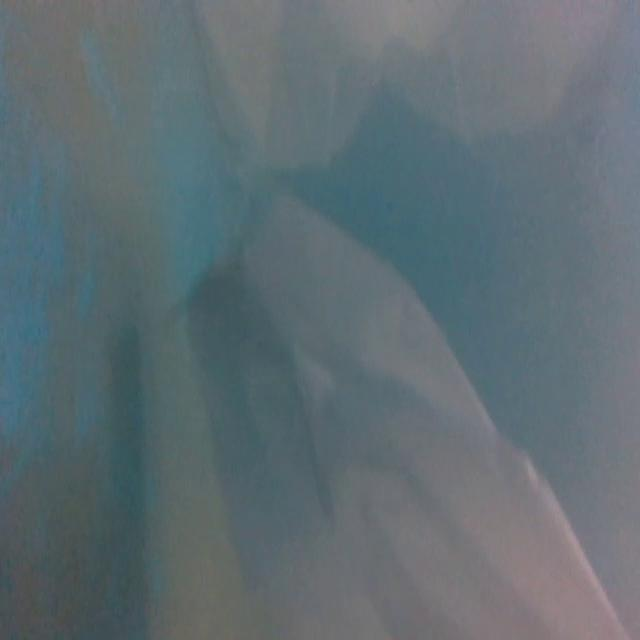plastic bags: (166, 195, 640, 640), (188, 0, 622, 178)
